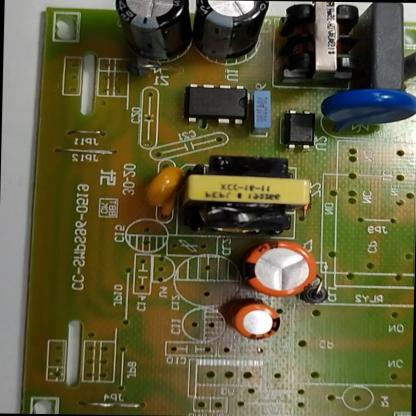Cap1: (239, 236, 325, 297)
Cap2: (225, 298, 291, 346)
Cap3: (192, 0, 275, 57)
Cap4: (113, 0, 195, 58)
MOSFET: (178, 79, 258, 131)
Mov: (322, 85, 416, 127)
Resistor: (398, 44, 416, 78)
Transformer: (178, 150, 312, 237), (272, 1, 368, 86)
